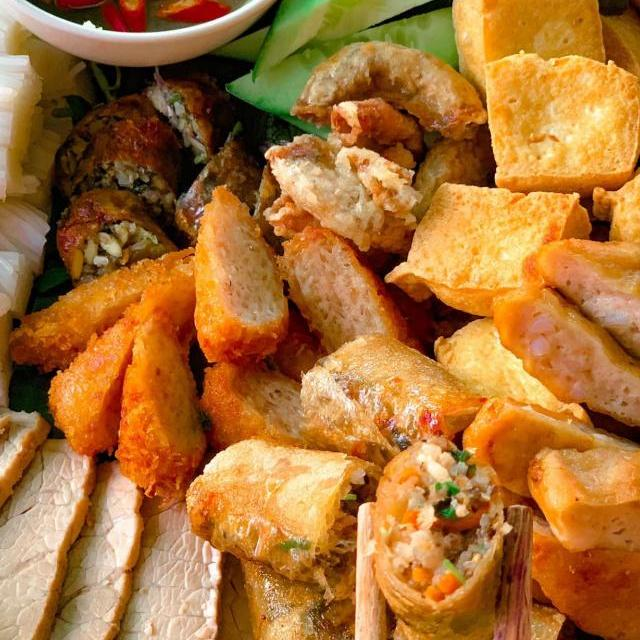bun: (0, 0, 104, 414)
bun dau: (0, 0, 640, 640)
cha com: (0, 168, 435, 511), (486, 226, 640, 450)
cha gio: (340, 410, 532, 640), (170, 428, 403, 595), (283, 318, 494, 489), (229, 512, 390, 640), (373, 562, 587, 640)
dau hu: (435, 0, 640, 204), (379, 162, 605, 331), (576, 143, 640, 296), (593, 0, 640, 179)
doi sun: (43, 55, 287, 301)
thit heo: (0, 365, 315, 640)
